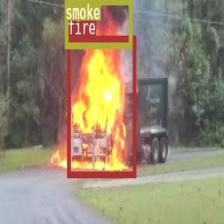fire: (67, 34, 135, 176)
smoke: (64, 0, 131, 47)
